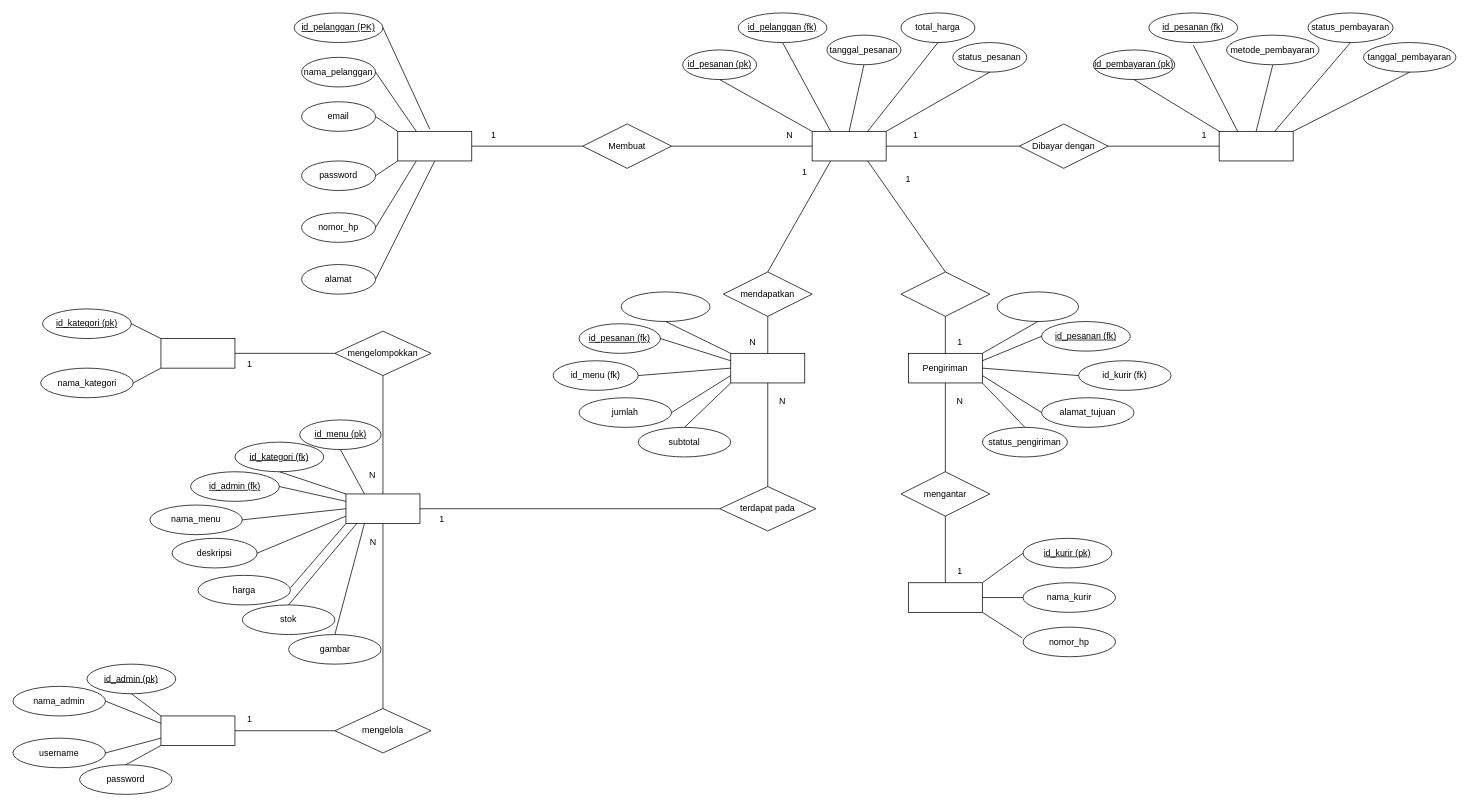
The diagram is 1469 pixels wide and 807 high, and some of its shapes have lost their labels. Each missing label, with the centre of its shape:
Admin: pixel 197 730
Detail_Pesanan: pixel 767 368
dikirim melalui: pixel 945 293
id_detail (pk): pixel 665 306
id_pengiriman (pk): pixel 1037 306
Kategori_menu: pixel 197 353
Kurir: pixel 945 597
Menu: pixel 382 508
Pelanggan: pixel 434 146
Pembayaran: pixel 1255 146
Pesanan: pixel 848 146
